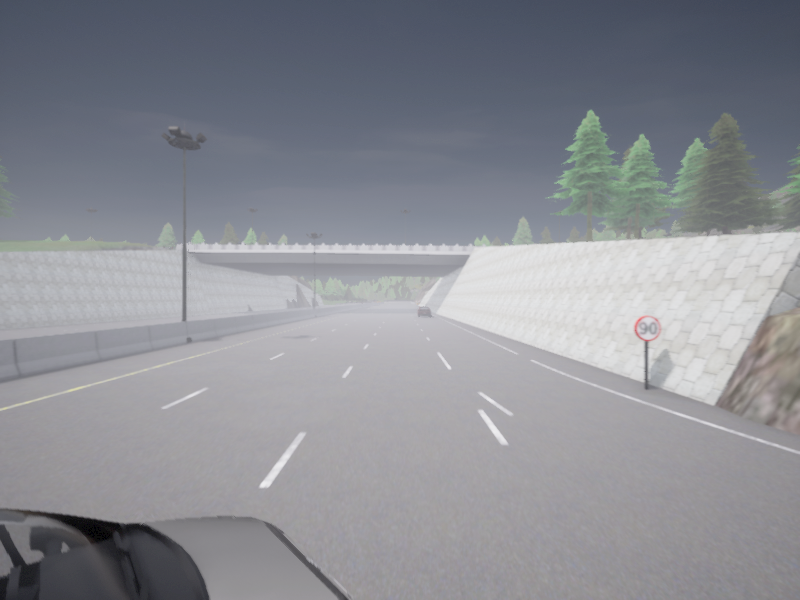vehicle: (0, 508, 353, 599), (417, 306, 430, 316)
